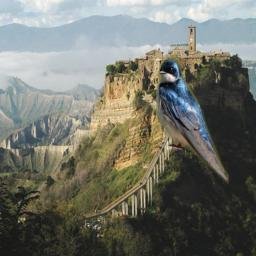Swallow: (156, 55, 229, 185)
